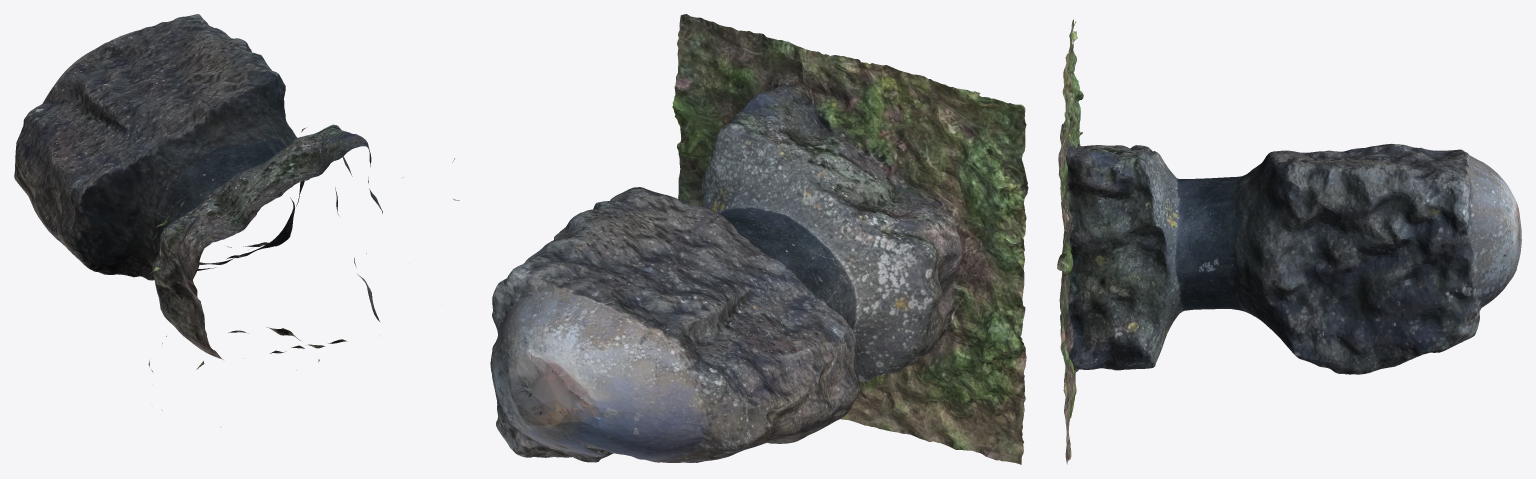
The model's file is black_rock.glb.
3 views of the same model, side by side, from view 1: azimuth 30°, elevation 25°; view 2: azimuth 150°, elevation 25°; view 3: azimuth 270°, elevation 25° (orthographic). The views are drawn at different scales.
Parts seen in each view (by area): view 1: default; view 2: default; view 3: default.
Boxes of the visible parts, box(x1,y1,x2,y2) form: default: box(14, 14, 459, 427); default: box(490, 14, 1028, 464); default: box(1057, 19, 1521, 464).
Size of the model in its own units: 17.39 by 16.88 by 23.08.
Materials: 1 (1 with a texture image).
